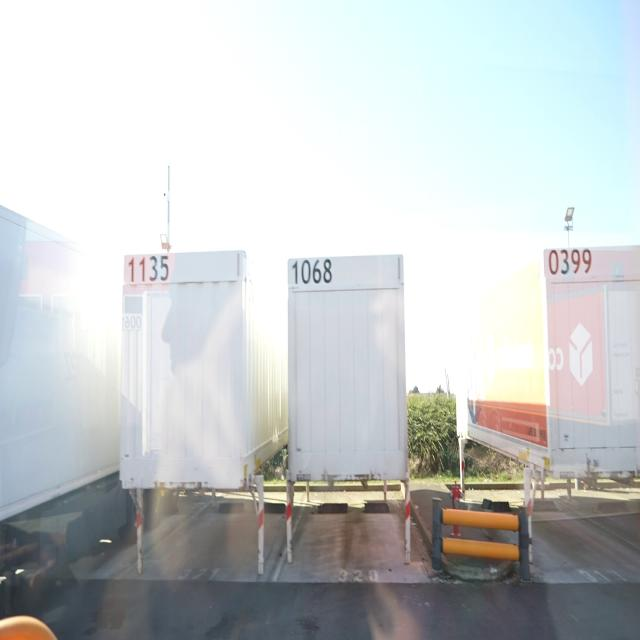Code: (545, 243, 593, 283), (289, 256, 338, 293), (128, 252, 174, 286)
